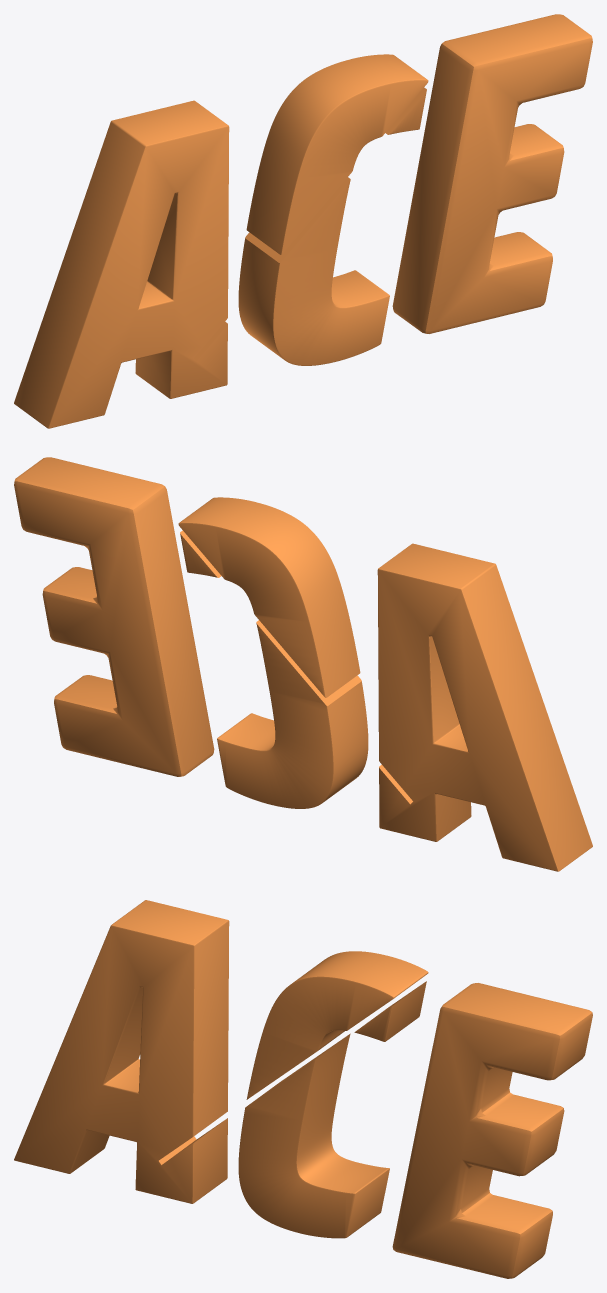
File: title-ace.glb
3 renders of one model, top to bottom at view 1: azimuth 30°, elevation 25°; view 2: azimuth 150°, elevation 25°; view 3: azimuth 330°, elevation 25°, orthographic.
Visible parts, largest first — view 1: a_0, a_2, a_1; view 2: a_0, a_2, a_1; view 3: a_0, a_2, a_1.
Boxes of the visible parts, x1=… form: a_0: x1=14, y1=100, x2=229, y2=428; a_2: x1=392, y1=14, x2=592, y2=333; a_1: x1=238, y1=54, x2=428, y2=365; a_0: x1=377, y1=543, x2=592, y2=871; a_2: x1=14, y1=457, x2=214, y2=776; a_1: x1=178, y1=497, x2=368, y2=808; a_0: x1=14, y1=900, x2=229, y2=1203; a_2: x1=392, y1=983, x2=592, y2=1278; a_1: x1=238, y1=951, x2=428, y2=1238.
Size of the model in its own units: 2.69 by 1.25 by 0.3.
